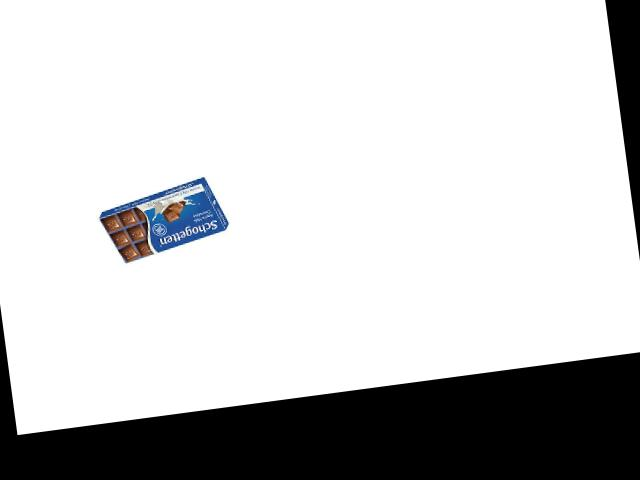chocolate: (95, 184, 234, 266)
